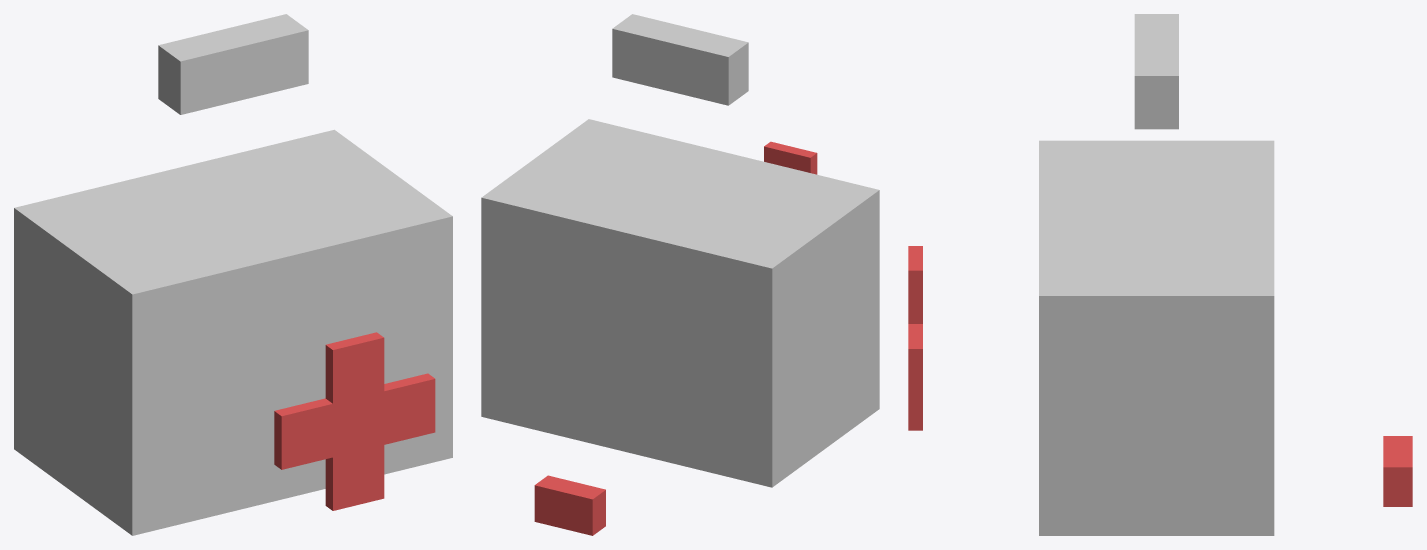
File: FirstAidKit.fbx
3 renders of one model, left to right at view 1: azimuth 30°, elevation 25°; view 2: azimuth 150°, elevation 25°; view 3: azimuth 270°, elevation 25°, orthographic. The views are drawn at different scales.
Visible parts, largest first — view 1: FirstAidKit; view 2: FirstAidKit; view 3: FirstAidKit.
Part boxes in pixels (x1,y1,x2,y2): FirstAidKit: (14, 14, 452, 535); FirstAidKit: (481, 14, 879, 535); FirstAidKit: (908, 14, 1412, 535).
Bounding box in the file's own units: 12.5 × 16.75 × 17.15.
